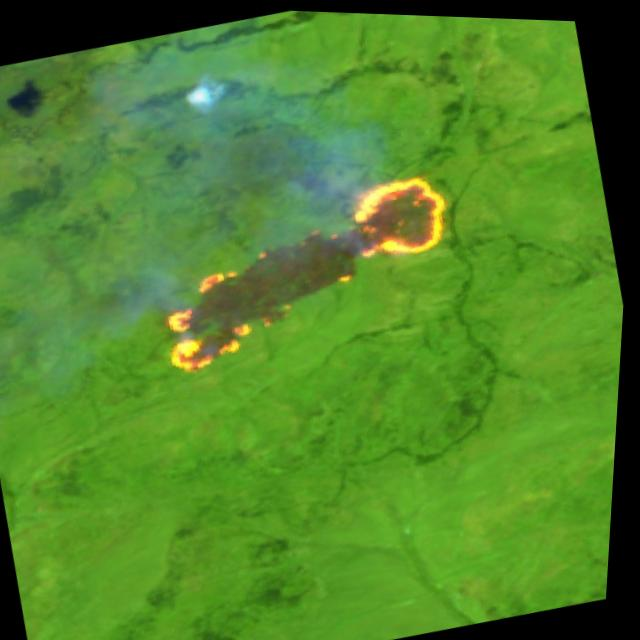fire: (133, 147, 487, 386)
